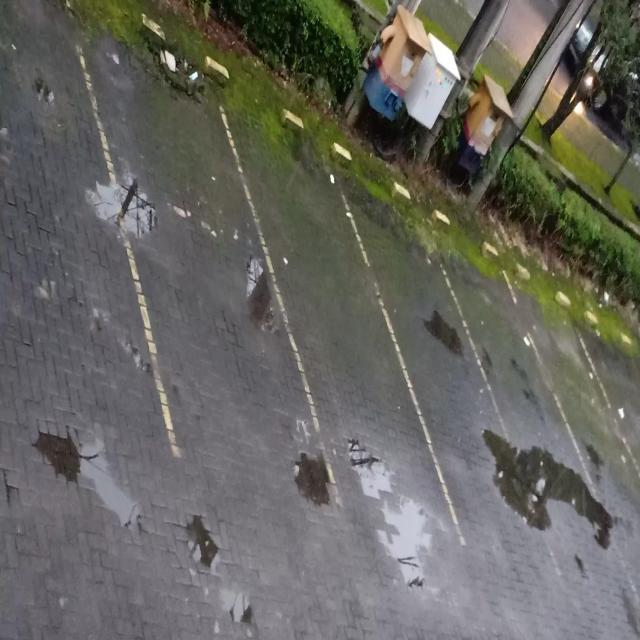Vacant: (116, 36, 265, 454), (267, 108, 390, 516), (391, 196, 474, 524), (472, 242, 553, 525)
